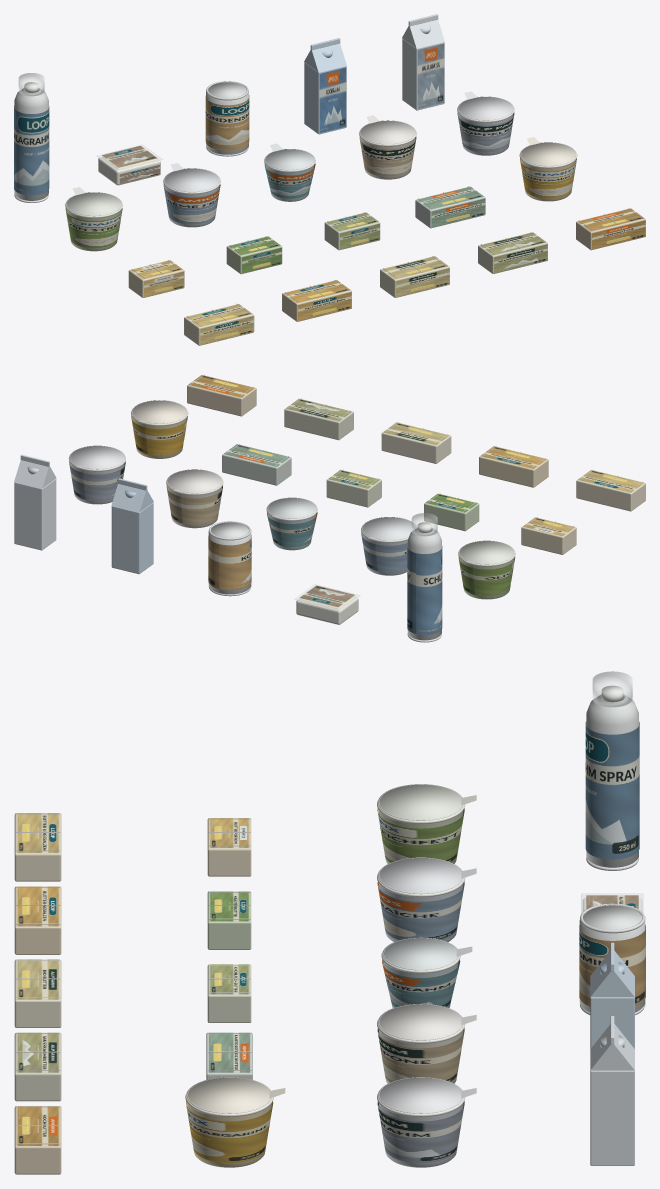
Rendered from Batch_04_Butter_Rahm_20_Distinct_Products.glb.
The picture shows the model from 3 angles, top to bottom: view 1: azimuth 30°, elevation 25°; view 2: azimuth 150°, elevation 25°; view 3: azimuth 270°, elevation 25°; orthographic projection. The views are drawn at different scales.
Visible parts, largest first — view 1: Printed full-wrap aerosol artwork, Paper label on steel can, UV-printed front label amigos_kochrahm, UV-printed front label amigos_halbrahm_25, Original 360 printed sleeve.004, Original 360 printed sleeve.001, Original 360 printed sleeve.005, Original 360 printed sleeve.002, Original 360 printed sleeve, Laminated paperboard main liquid carton, Laminated paperboard main liquid carton.001, Heat-sealed printed top foil.004 (+41 smaller); view 2: Printed full-wrap aerosol artwork, Laminated paperboard main liquid carton.001, Laminated paperboard main liquid carton, Paper label on steel can, Gold foil and printed sleeve.002, Gold foil and printed sleeve, Gold foil and printed sleeve.004, Gold foil and printed sleeve.001, Gold foil and printed sleeve.003, Gold foil and printed sleeve.008, Original 360 printed sleeve, Original 360 printed sleeve.001 (+30 smaller); view 3: Printed full-wrap aerosol artwork, Laminated paperboard main liquid carton.001, Original 360 printed sleeve.005, Original 360 printed sleeve, Original 360 printed sleeve.002, Original 360 printed sleeve.001, Original 360 printed sleeve.004, Paper label on steel can, Heat-sealed printed top foil.004, Heat-sealed printed top foil.001, Heat-sealed printed top foil.005, Heat-sealed printed top foil.002 (+29 smaller).
Boxes of the visible parts, box(x1,y1,x2,y2) form: Printed full-wrap aerosol artwork: box(14, 106, 49, 195); Paper label on steel can: box(205, 95, 249, 150); UV-printed front label amigos_kochrahm: box(319, 67, 346, 132); UV-printed front label amigos_halbrahm_25: box(417, 43, 444, 109); Original 360 printed sleeve.004: box(359, 136, 416, 176); Original 360 printed sleeve.001: box(65, 208, 122, 248); Original 360 printed sleeve.005: box(457, 112, 514, 152); Original 360 printed sleeve.002: box(163, 184, 220, 224); Original 360 printed sleeve: box(520, 158, 576, 198); Laminated paperboard main liquid carton: box(304, 62, 346, 134); Laminated paperboard main liquid carton.001: box(402, 38, 444, 110); Heat-sealed printed top foil.004: box(360, 120, 415, 144); Printed full-wrap aerosol artwork: box(407, 546, 442, 634); Laminated paperboard main liquid carton.001: box(14, 479, 56, 550); Laminated paperboard main liquid carton: box(111, 502, 153, 574); Paper label on steel can: box(208, 535, 251, 590); Gold foil and printed sleeve.002: box(381, 422, 451, 463); Gold foil and printed sleeve: box(576, 470, 645, 511); Gold foil and printed sleeve.004: box(187, 375, 256, 416); Gold foil and printed sleeve.001: box(479, 446, 548, 487); Gold foil and printed sleeve.003: box(284, 398, 353, 440); Gold foil and printed sleeve.008: box(222, 444, 291, 485); Original 360 printed sleeve: box(131, 416, 187, 455); Original 360 printed sleeve.001: box(458, 556, 515, 596); Printed full-wrap aerosol artwork: box(585, 721, 639, 859); Laminated paperboard main liquid carton.001: box(590, 1070, 634, 1165); Original 360 printed sleeve.005: box(377, 1101, 464, 1162); Original 360 printed sleeve: box(186, 1101, 273, 1162); Original 360 printed sleeve.002: box(377, 881, 464, 940); Original 360 printed sleeve.001: box(377, 808, 464, 862); Original 360 printed sleeve.004: box(377, 1028, 464, 1082); Paper label on steel can: box(579, 925, 645, 1006); Heat-sealed printed top foil.004: box(378, 1004, 463, 1040); Heat-sealed printed top foil.001: box(378, 784, 463, 820); Heat-sealed printed top foil.005: box(378, 1077, 463, 1113); Heat-sealed printed top foil.002: box(378, 857, 463, 894).
Size of the model in its own units: 0.868 by 0.2215 by 0.693.
84 materials, 20 textured.
